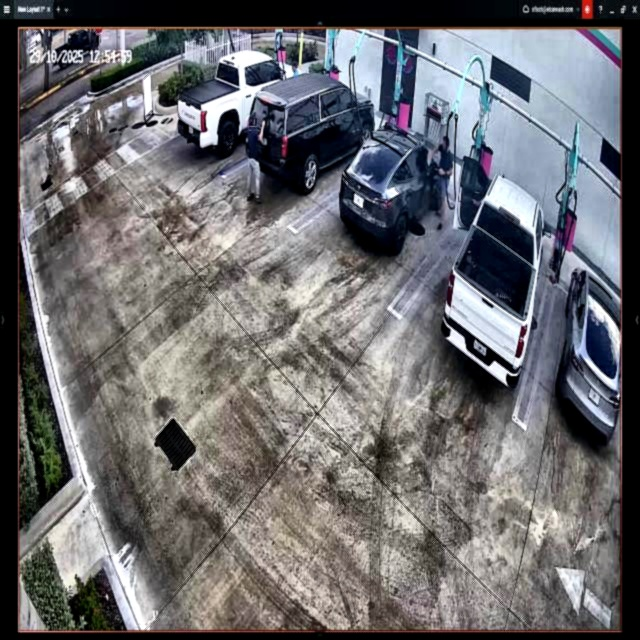Car: (442, 154, 542, 385), (248, 64, 374, 190), (176, 48, 301, 160), (344, 120, 444, 259)
